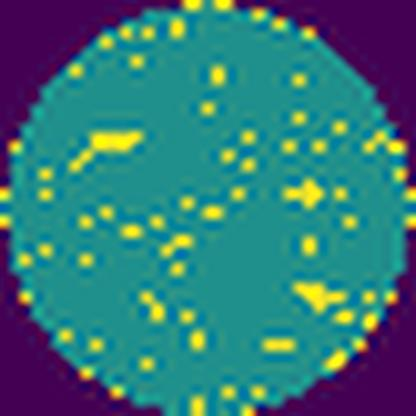Loc: (72, 129, 148, 165), (298, 274, 350, 316)
